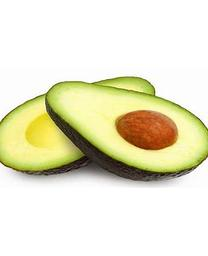avocado: (45, 80, 207, 181), (0, 76, 156, 177)
